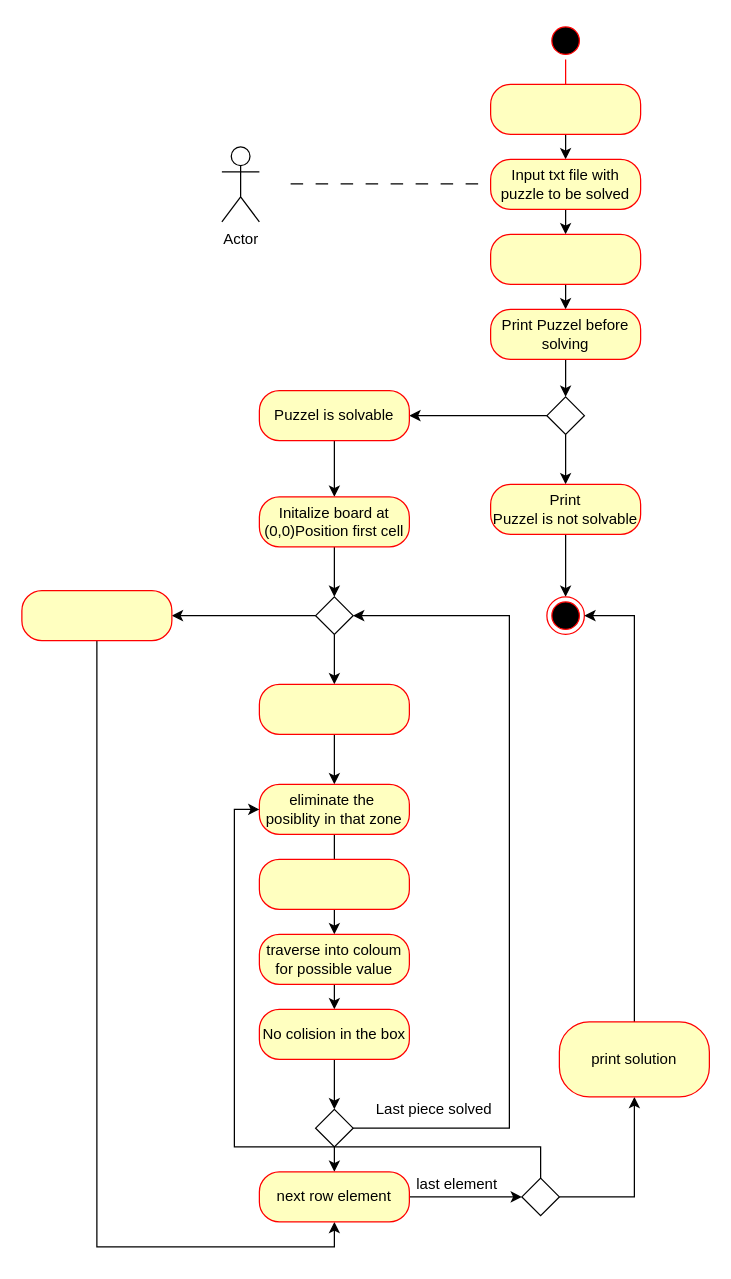
This 731x1279 diagram has some shape labels left out. Each missing label, with the centre of its shape:
Board position is empty: point (333, 708)
Board position not empty: point (96, 615)
Puzzle.welcome() Pretty Print welcome message: point (565, 108)
Set internal board with puzzle values: point (565, 258)
traverse into row for possible value: point (333, 883)
